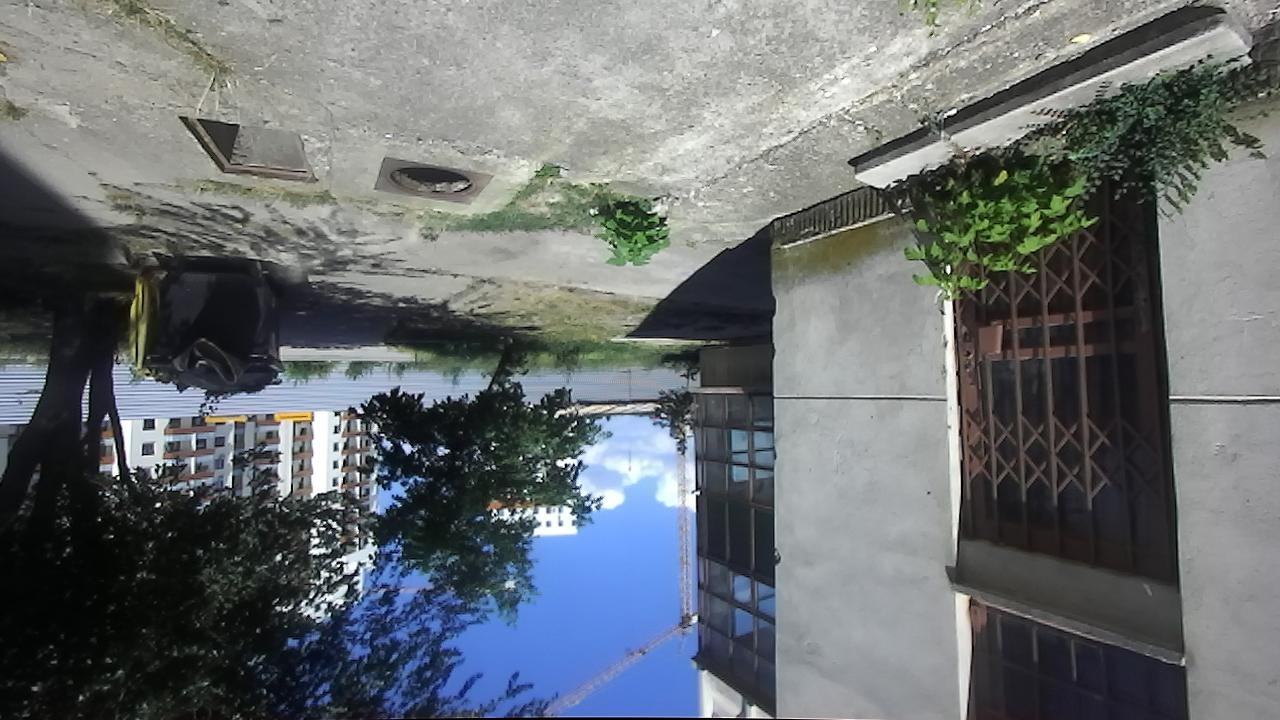drain: (175, 109, 321, 187), (387, 164, 479, 199)
